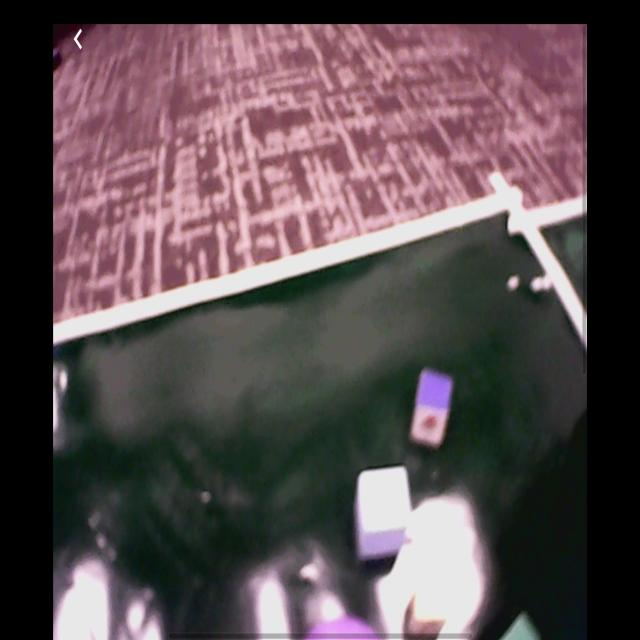ball: (302, 616, 378, 637)
